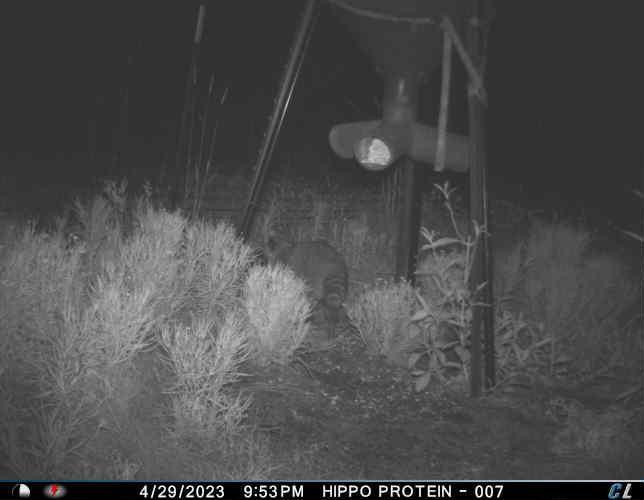Raccoon: (259, 226, 350, 319)
